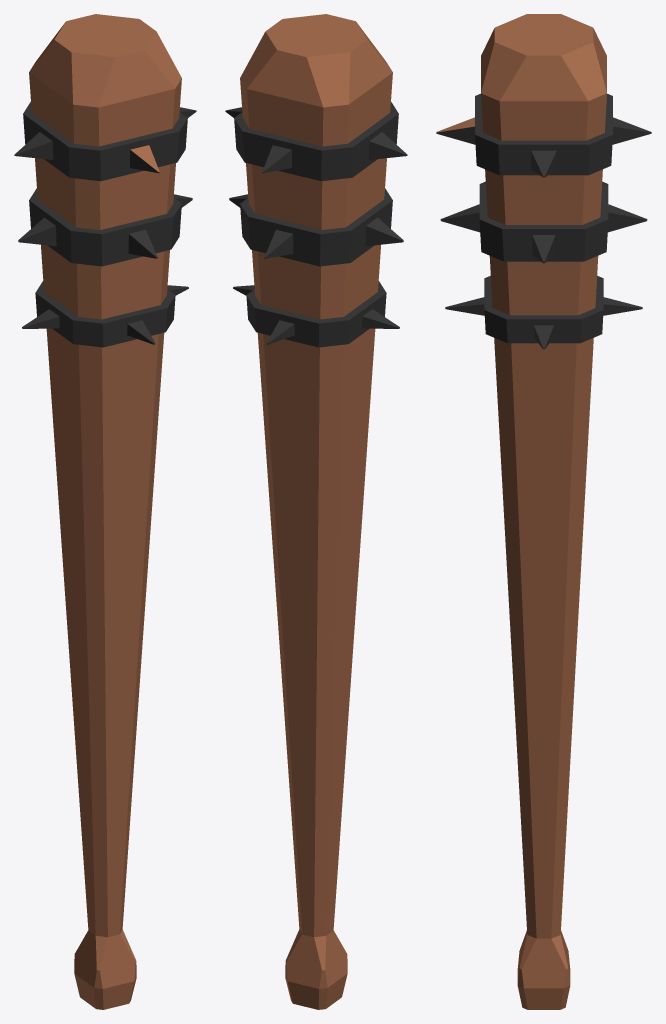
The model's file is Spiked_Club.fbx.
3 renders of one model, left to right at view 1: azimuth 30°, elevation 25°; view 2: azimuth 150°, elevation 25°; view 3: azimuth 270°, elevation 25°, orthographic.
Visible parts, largest first — view 1: Spiked Club; view 2: Spiked Club; view 3: Spiked Club.
Part boxes in pixels (x1=…): Spiked Club: x1=14, y1=14, x2=196, y2=1009; Spiked Club: x1=225, y1=14, x2=407, y2=1009; Spiked Club: x1=436, y1=14, x2=651, y2=1009.
Bounding box in the file's own units: 0.502 × 2.54 × 0.5141.
